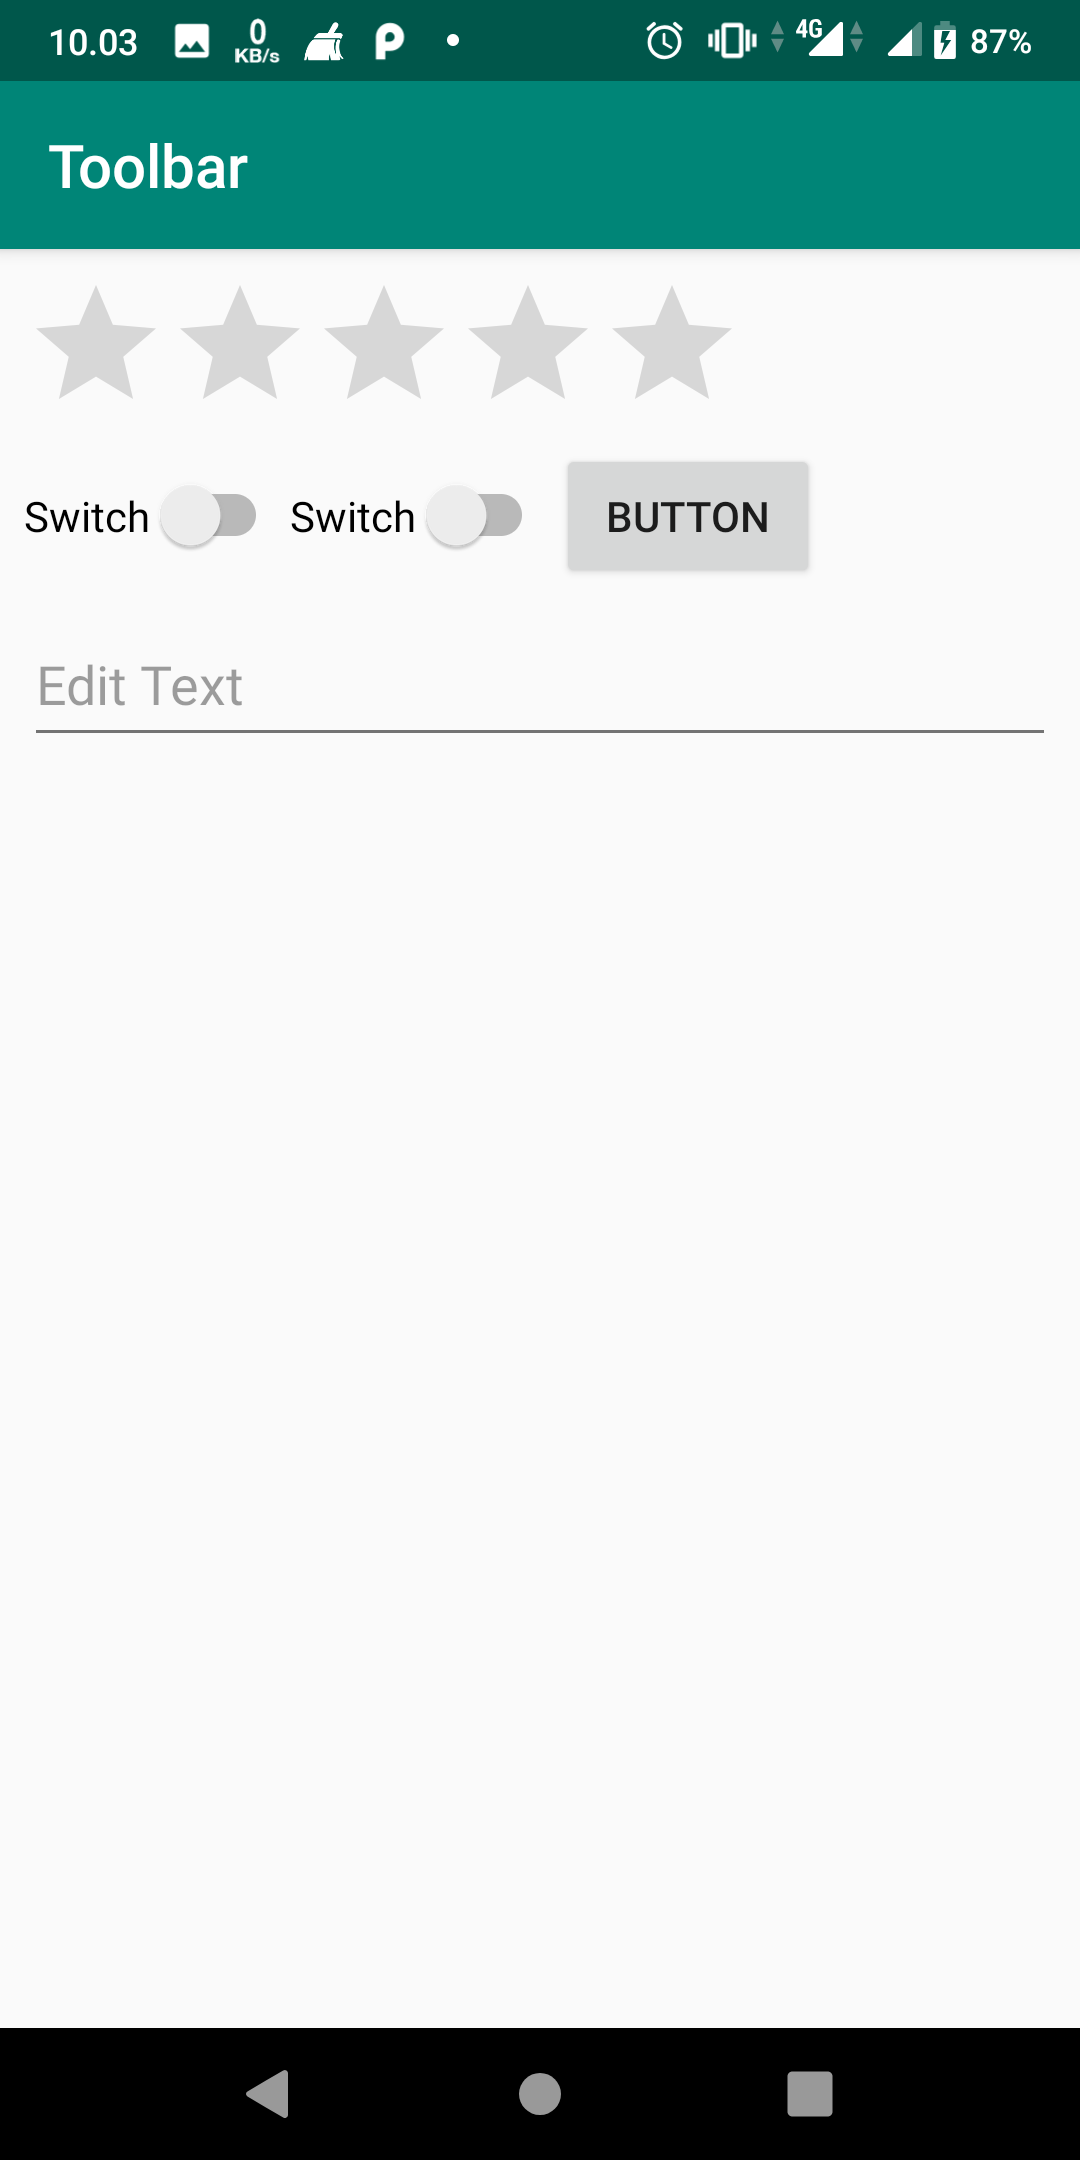button: (561, 455, 820, 583)
editText: (22, 641, 1054, 754)
ratingBar: (41, 282, 741, 409)
switch: (15, 477, 267, 551), (293, 477, 534, 554)
toolbar: (3, 77, 1080, 251)
